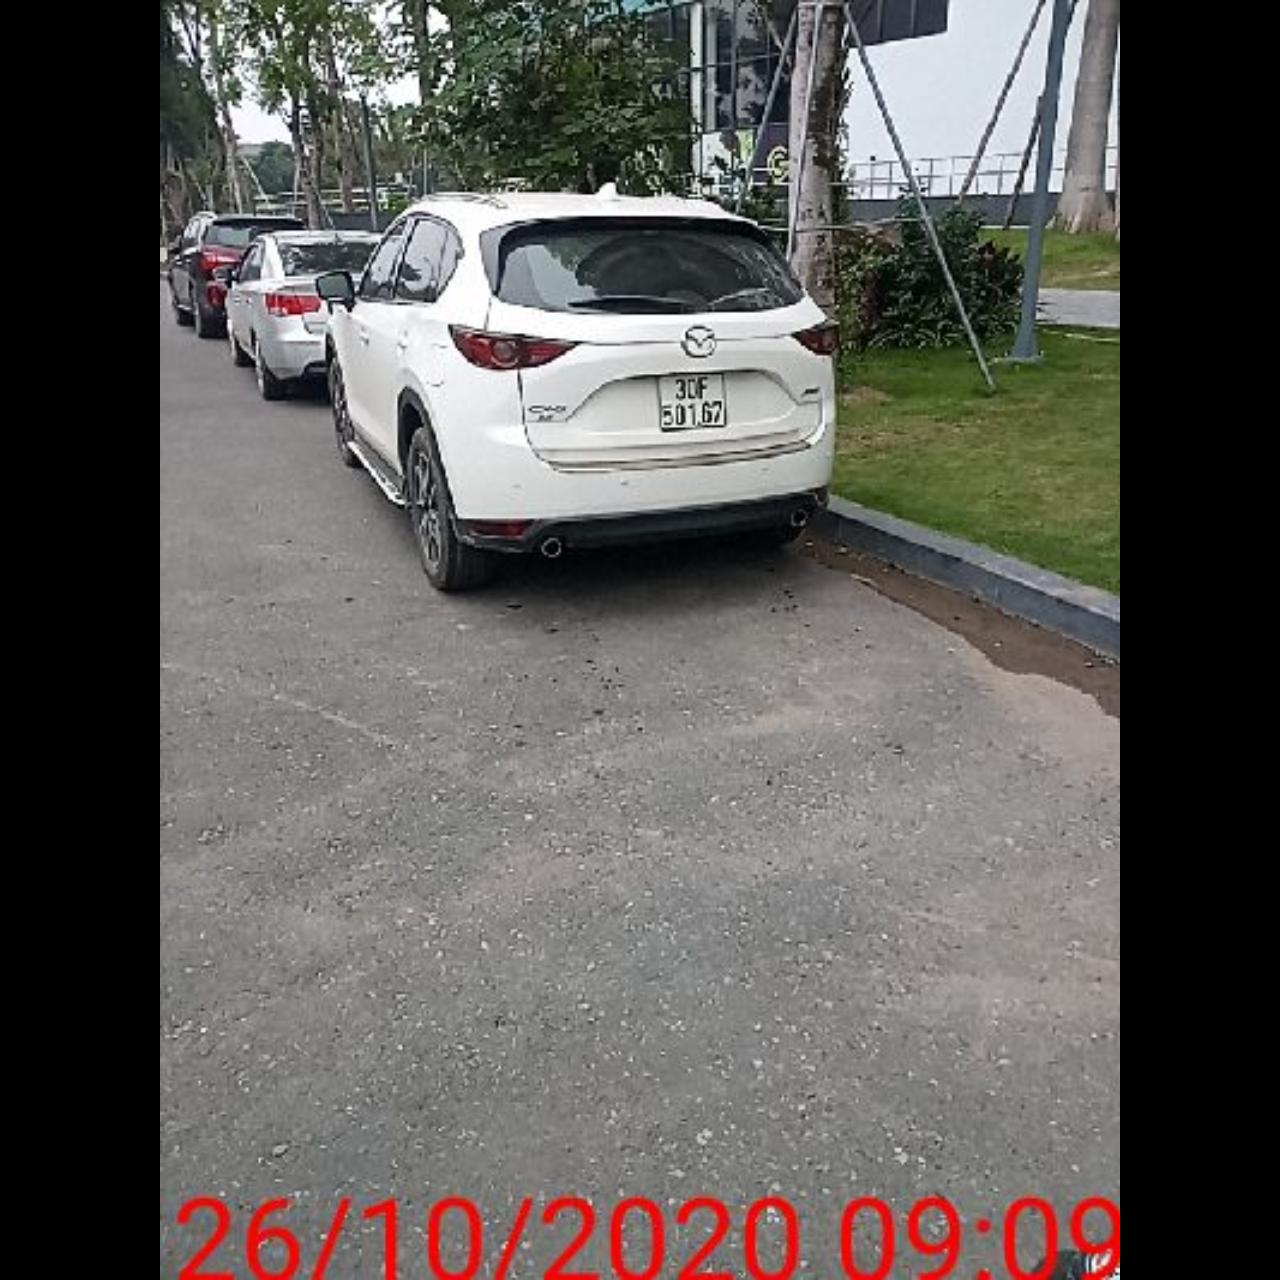bienso: (654, 369, 731, 435)
